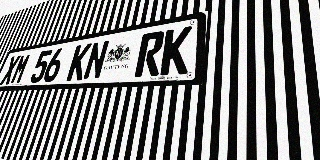5: (29, 50, 53, 83)
6: (42, 47, 66, 82)
K: (159, 26, 192, 76), (66, 43, 92, 81)
M: (9, 53, 32, 84)
N: (82, 40, 110, 80)
R: (134, 30, 165, 77)
X: (0, 55, 21, 85)
